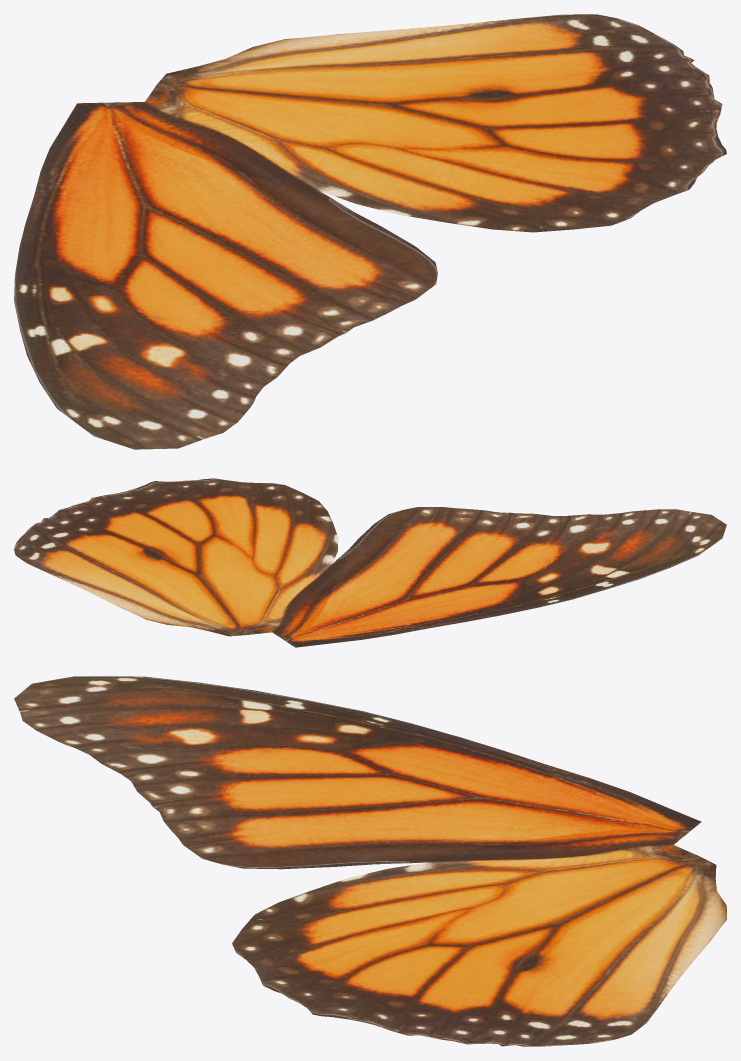
File: Ala_izquierda.obj
3 renders of one model, top to bottom at view 1: azimuth 30°, elevation 25°; view 2: azimuth 150°, elevation 25°; view 3: azimuth 270°, elevation 25°, orthographic. The views are drawn at different scales.
Visible parts, largest first — view 1: Ala_izquierda; view 2: Ala_izquierda; view 3: Ala_izquierda.
Part boxes in pixels (left/top/right/bottom): Ala_izquierda: left=14, top=14, right=726, bottom=449; Ala_izquierda: left=14, top=478, right=726, bottom=647; Ala_izquierda: left=14, top=676, right=726, bottom=1046.
Bounding box in the file's own units: 0.1196 × 5e-06 × 0.0973.
Materials: 1 (1 with a texture image).
